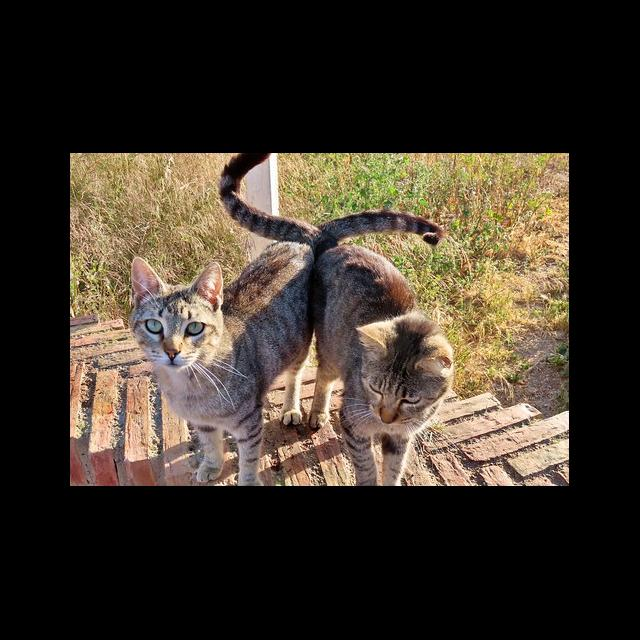animals: (130, 252, 306, 486), (318, 245, 454, 486)
